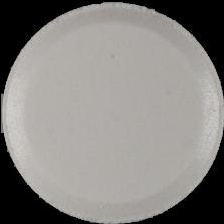53808-0344: (0, 0, 224, 224)
